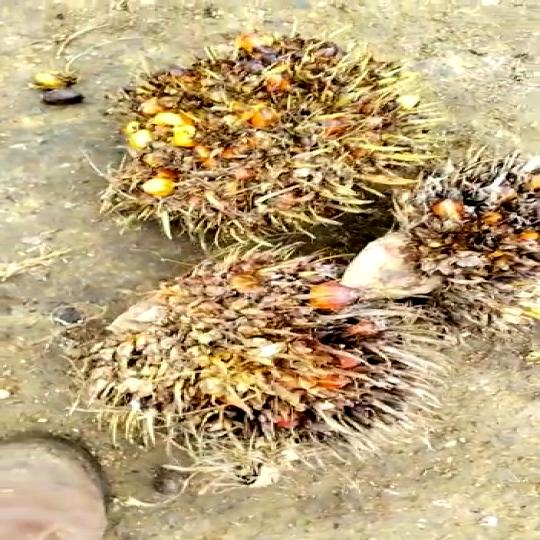terlalu masak: (81, 247, 414, 445), (90, 40, 408, 243)
